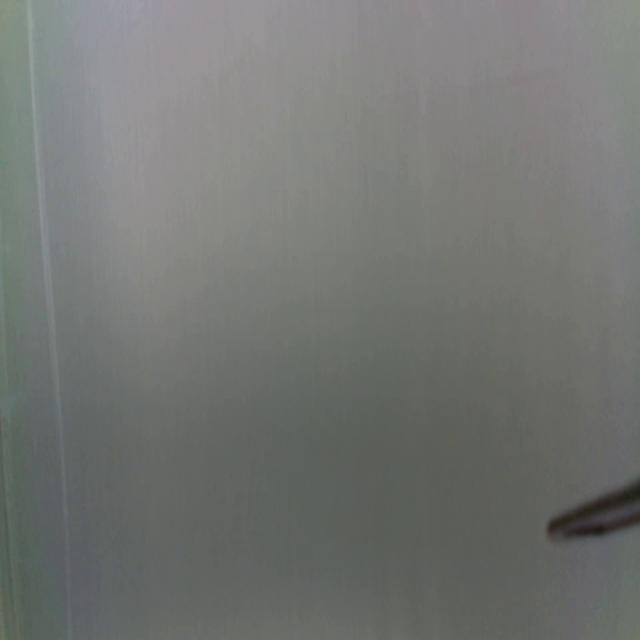crease: (25, 0, 73, 632), (0, 404, 19, 640)
